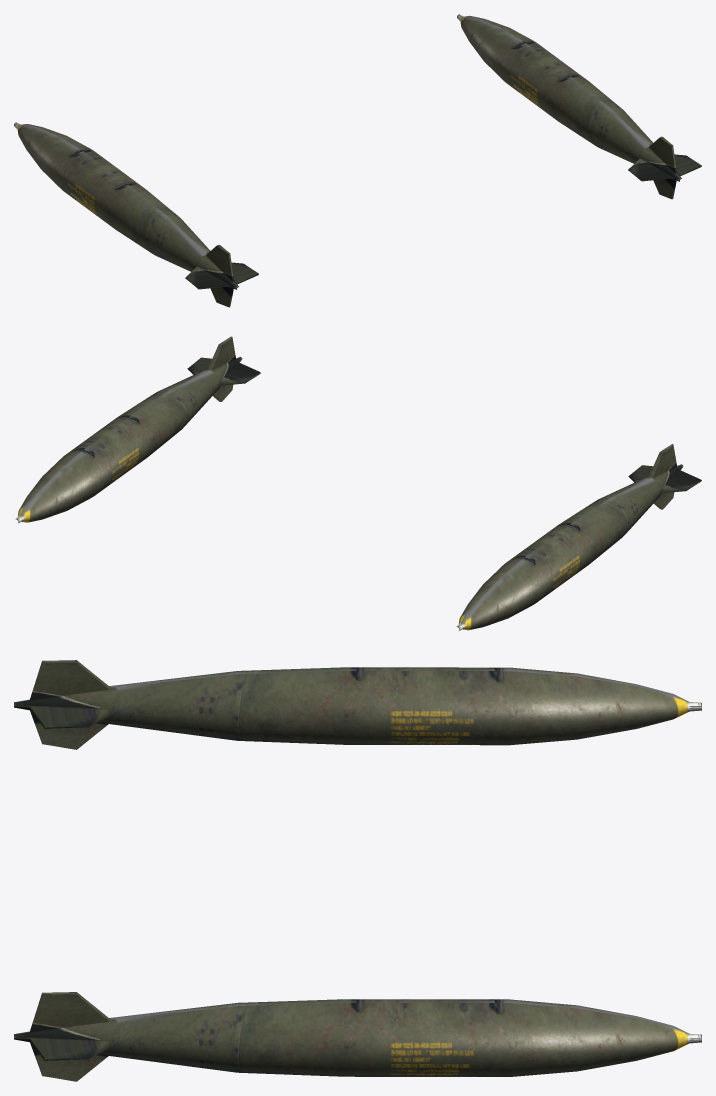
3 views of the same model, one above another, from view 1: azimuth 30°, elevation 25°; view 2: azimuth 150°, elevation 25°; view 3: azimuth 270°, elevation 25° (orthographic). The views are drawn at different scales.
Visible parts, largest first — view 1: Circle, Circle.001; view 2: Circle, Circle.001; view 3: Circle, Circle.001.
Part boxes in pixels (x1,y1,x2,y2): Circle: (14, 122, 258, 307); Circle.001: (457, 14, 701, 199); Circle: (456, 444, 701, 630); Circle.001: (15, 336, 260, 523); Circle: (14, 660, 701, 749); Circle.001: (14, 992, 701, 1081).
Size of the model in its own units: 567 by 62.32 by 437.
2 materials, 2 textured.
